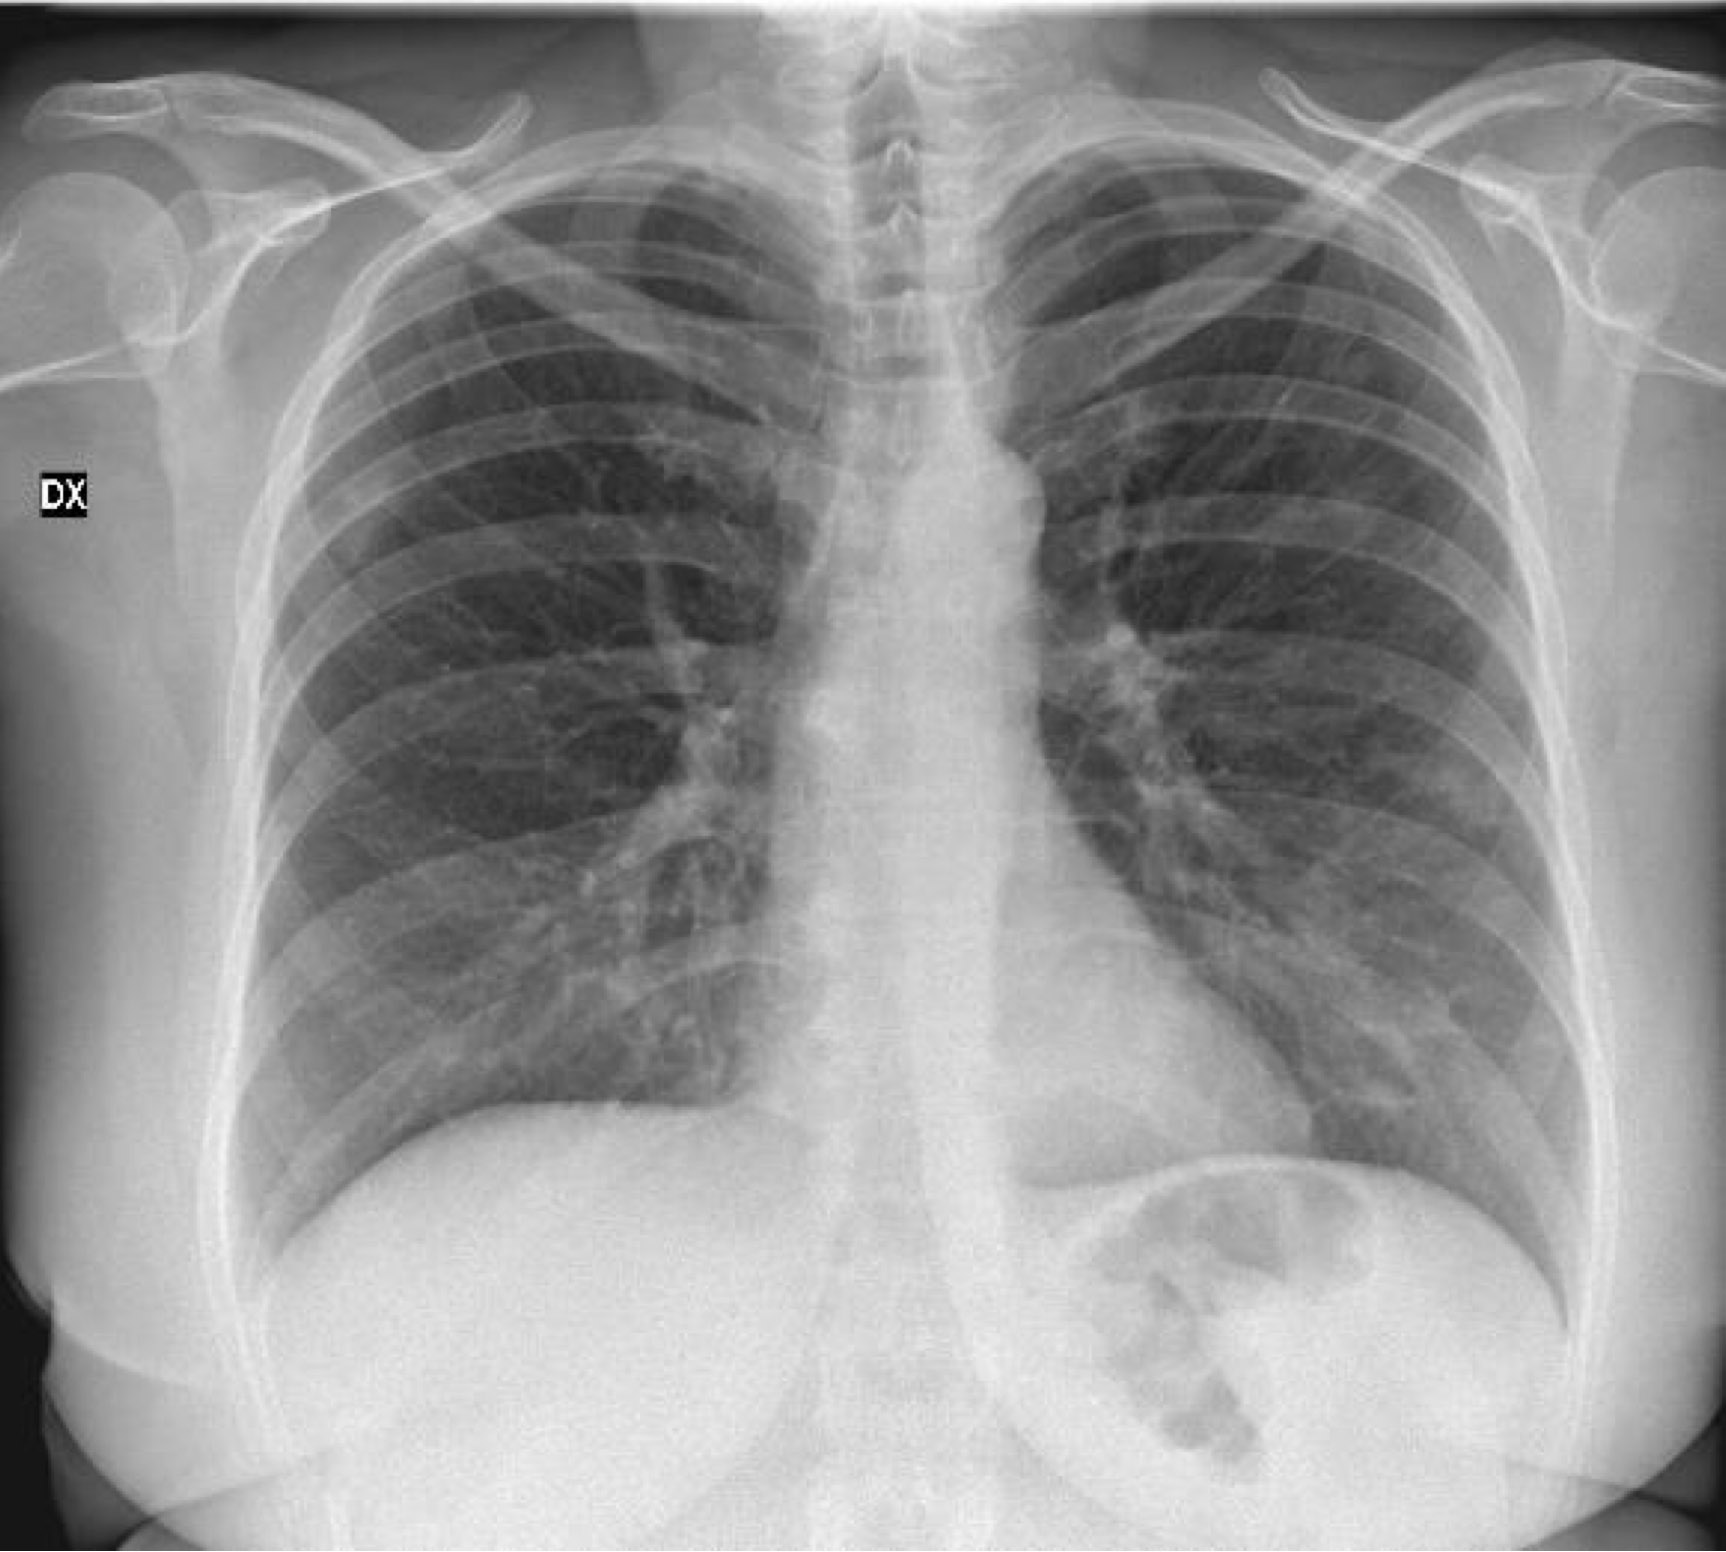Mildw: (951, 154, 1585, 1309), (237, 148, 824, 1281)
